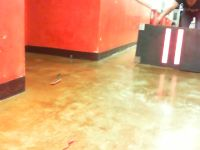switch: (173, 29, 184, 65), (161, 28, 171, 64)
